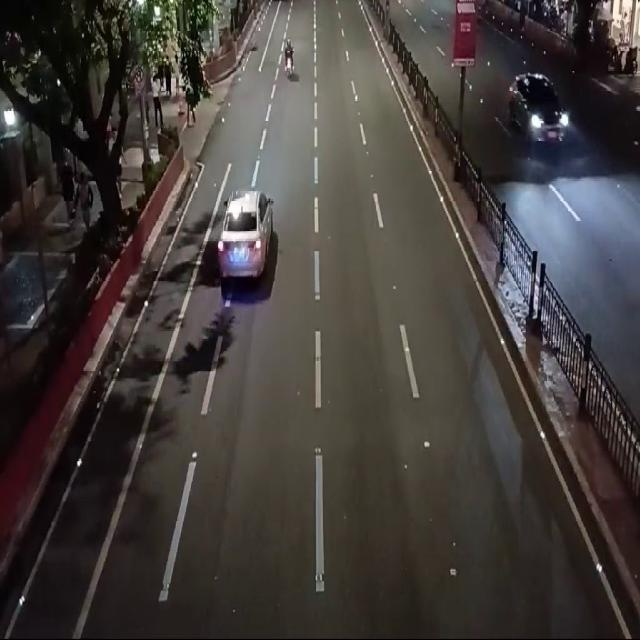car: (209, 169, 276, 288), (502, 59, 578, 160)
motorcycle: (283, 34, 296, 88)
